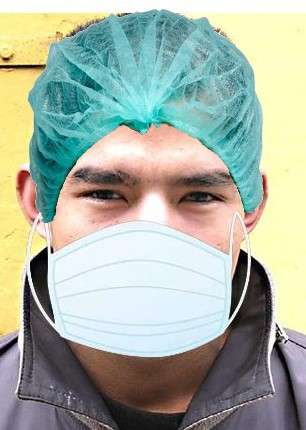with_mask_and_cap: (27, 10, 265, 356)
